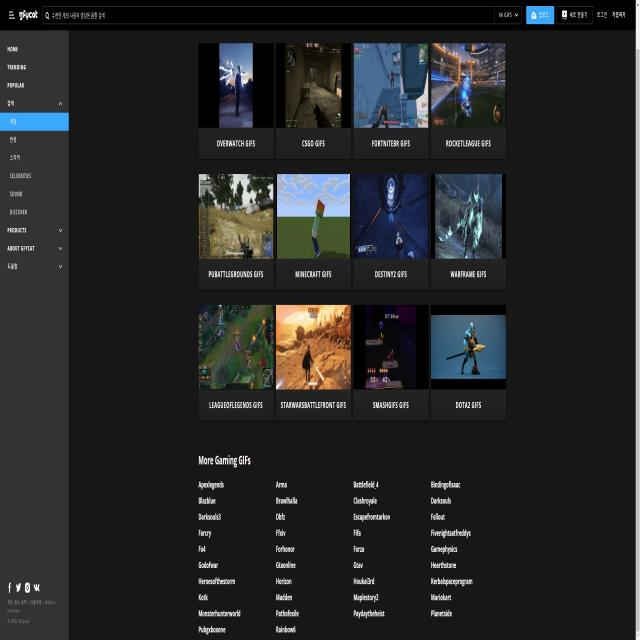menu-bar: (525, 4, 627, 25)
menu-panel: (1, 35, 69, 278)
search: (42, 7, 526, 22)
